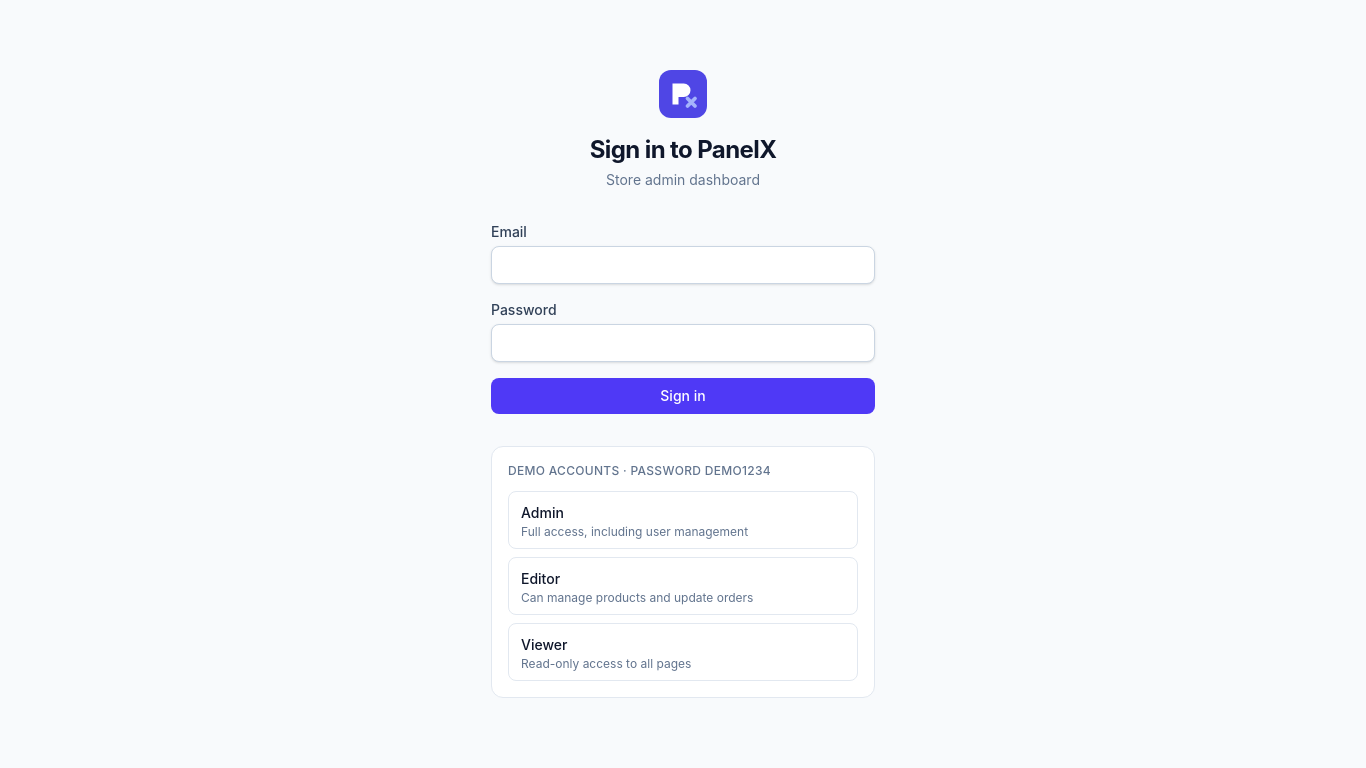
Test case: analytics › identifies a user by id and role only, without name or email
Type "editor@panelx.dev" into the field labelled "Email" at (683, 265), box [491,246,875,284]
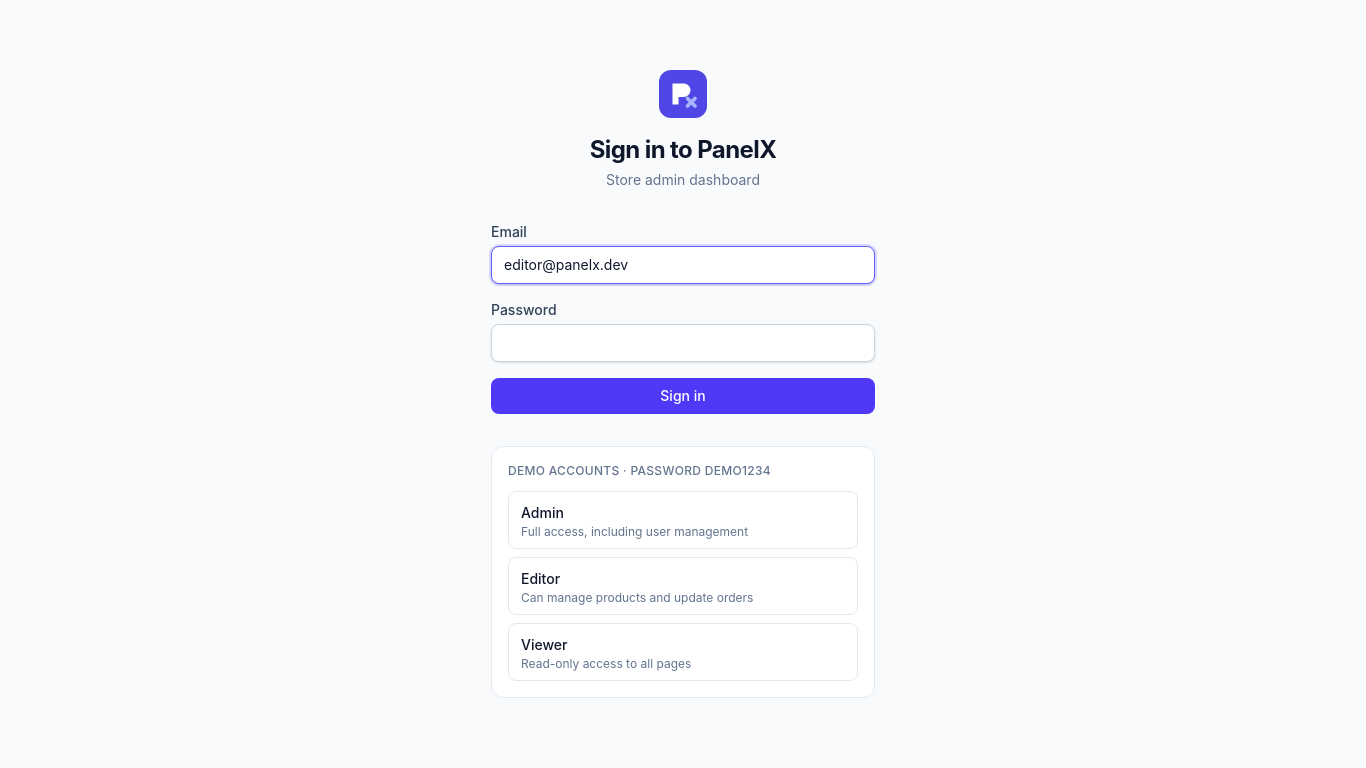
Type "demo1234" into the password field labelled "Password" at (683, 343), box [491,324,875,362]
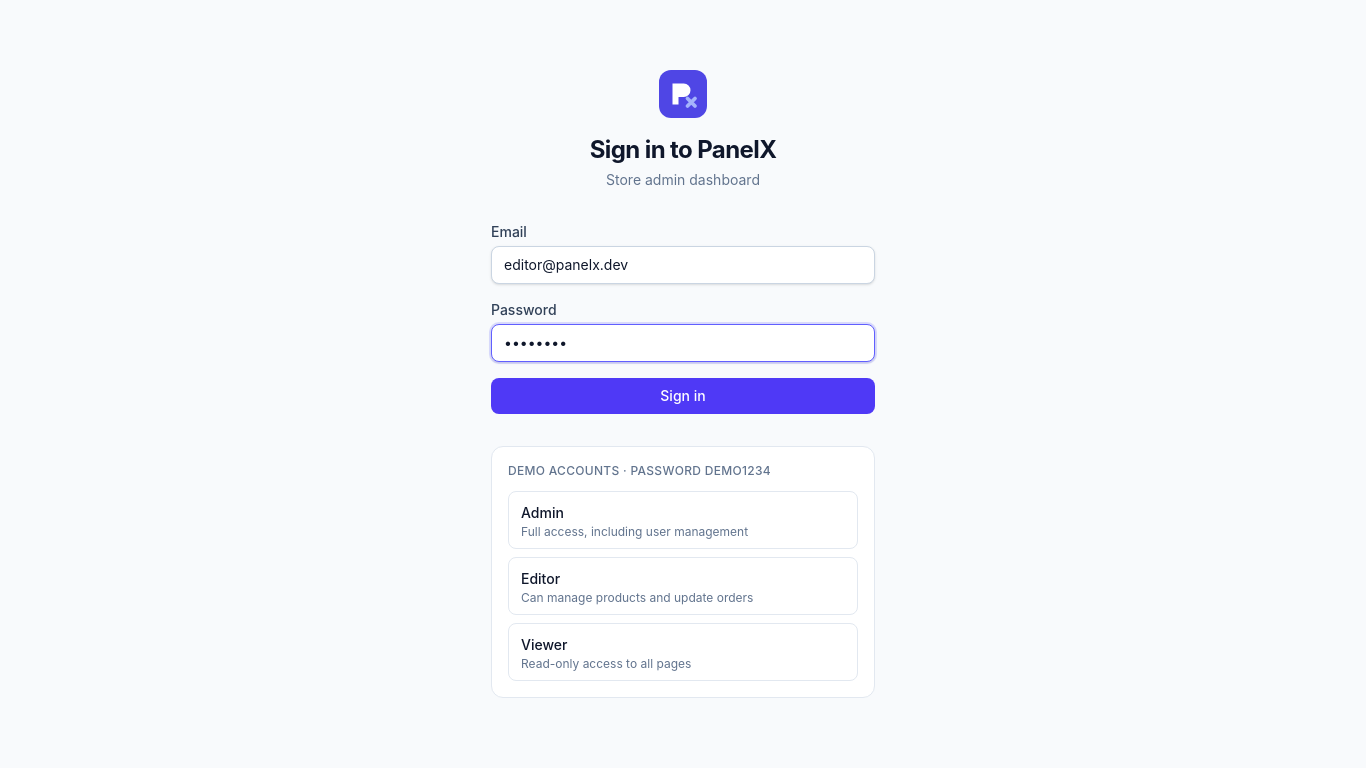
Click the button "Sign in" at (683, 396), box [491,378,875,414]
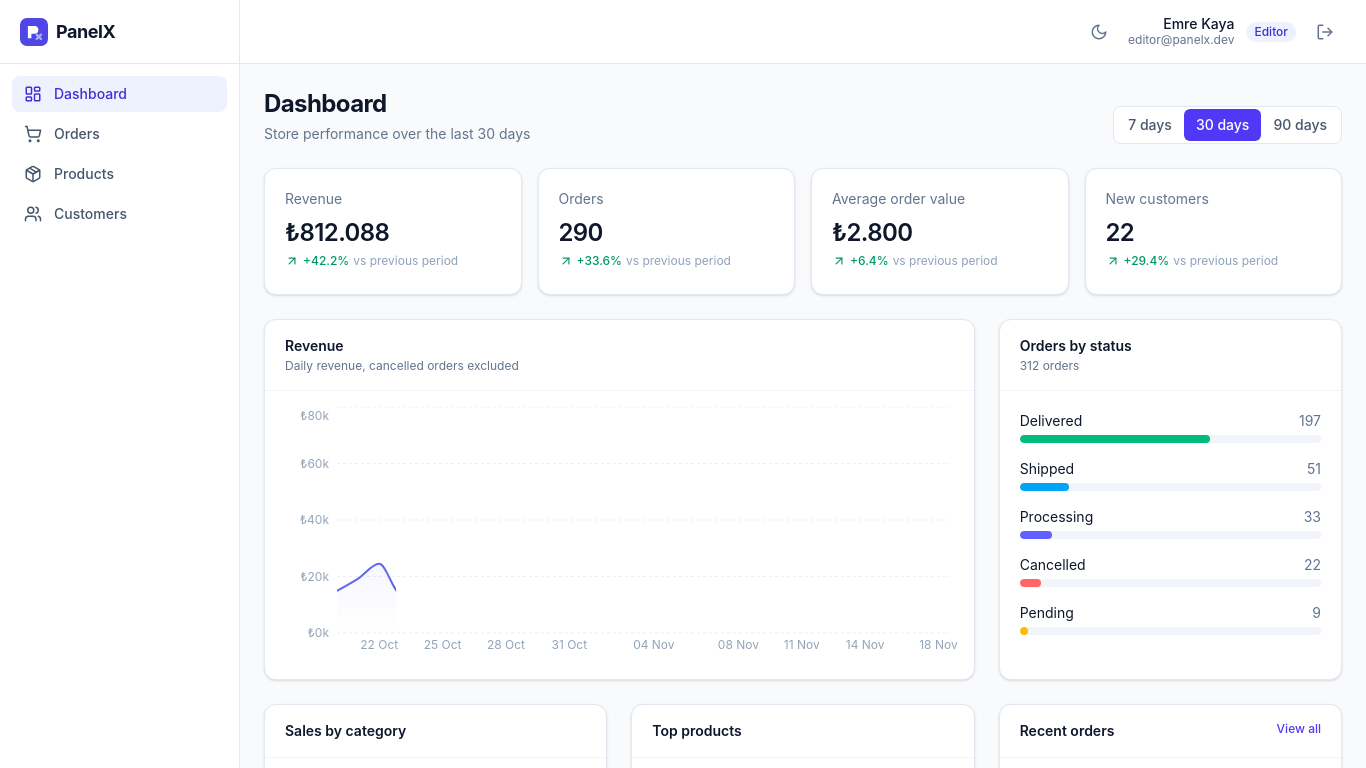
Check: the heading "Dashboard" is shown, box [264,89,387,118]
